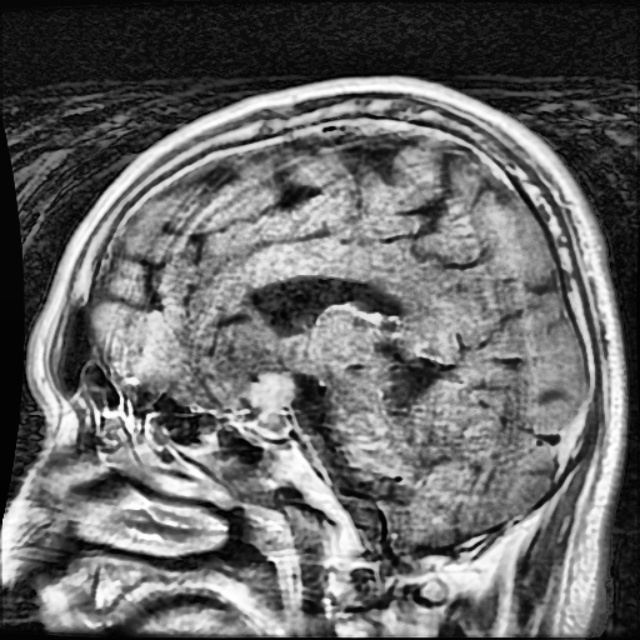Pituitary: (252, 372, 292, 435)
